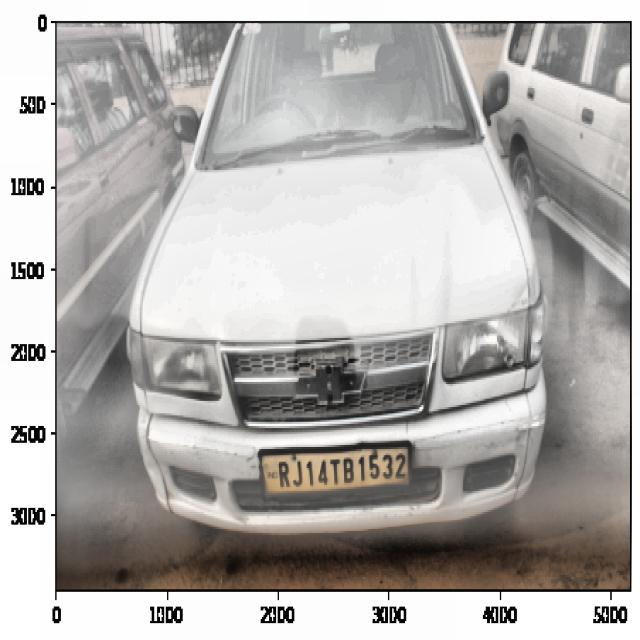license_plate: (274, 444, 409, 491)
